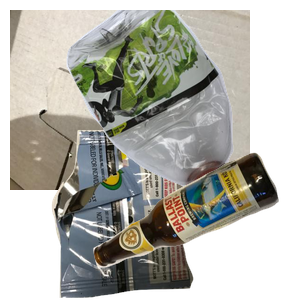cardboard: (10, 10, 250, 190)
glass: (91, 150, 300, 300)
plastic: (64, 10, 300, 190)
trash: (49, 130, 235, 300)
